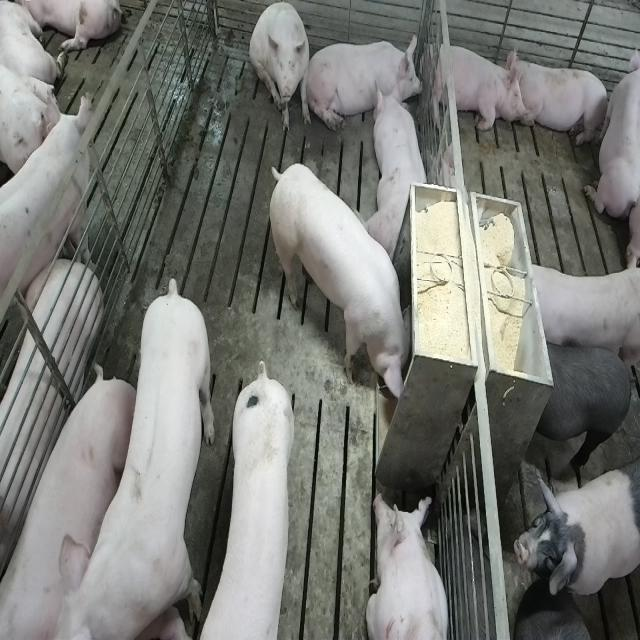Feeding: (269, 155, 416, 410)
Sitting: (248, 2, 312, 134)
Standing: (61, 282, 215, 640), (200, 367, 296, 640), (1, 90, 97, 334), (512, 464, 640, 603), (530, 337, 636, 476), (518, 255, 640, 363)
Sternal_lying: (0, 373, 140, 640), (0, 254, 103, 565), (365, 484, 449, 640), (307, 27, 426, 132), (366, 85, 428, 259), (423, 35, 528, 136), (505, 47, 610, 147), (587, 46, 640, 219)
